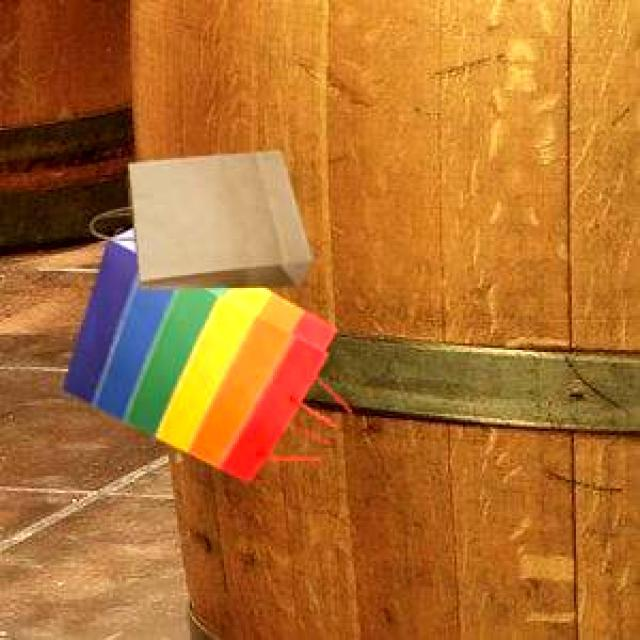Paper_Bag: (58, 225, 332, 479), (116, 148, 308, 285)
